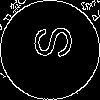S: (25, 25, 72, 59)
